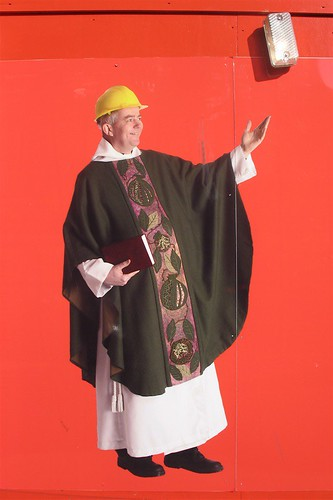person hardhat: (63, 83, 269, 485)
